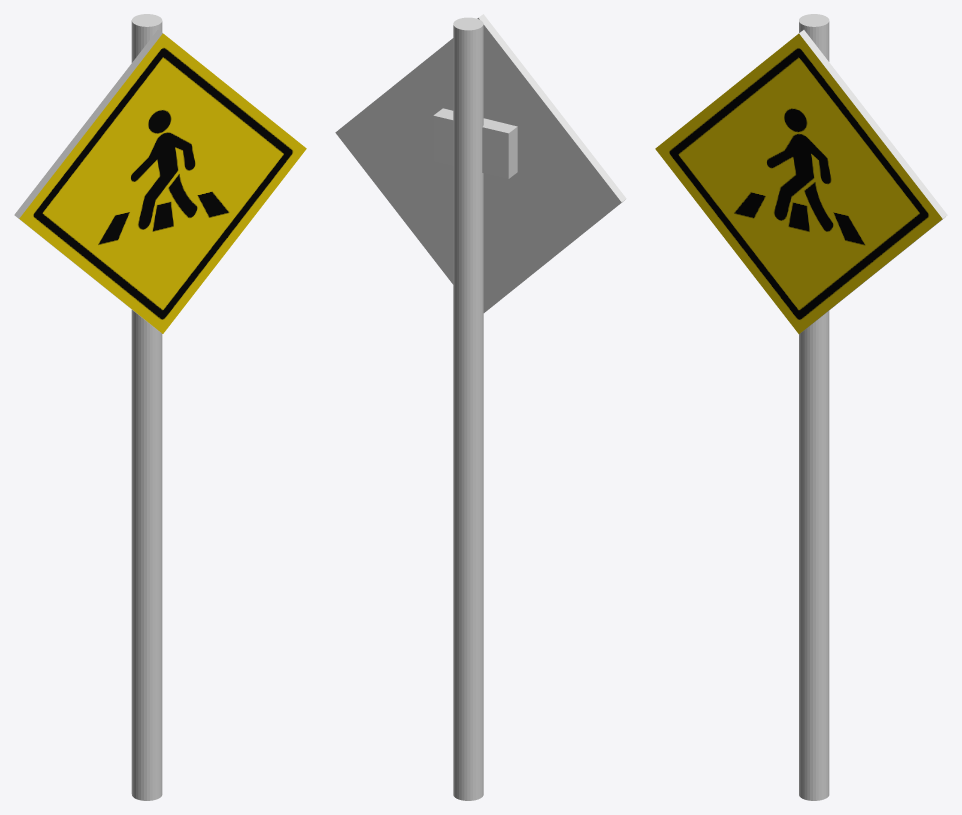
Rendered from PeringZebraCross.fbx.
3 renders of one model, left to right at view 1: azimuth 30°, elevation 25°; view 2: azimuth 150°, elevation 25°; view 3: azimuth 330°, elevation 25°, orthographic.
Parts seen in each view (by area): view 1: Cube.002, Cylinder.002; view 2: Cube.002, Cylinder.002, Cube.001; view 3: Cube.002, Cylinder.002.
Part boxes in pixels (x1,y1,x2,y2): Cube.002: [14, 30, 306, 333]; Cylinder.002: [131, 14, 162, 800]; Cube.002: [335, 14, 626, 312]; Cylinder.002: [453, 17, 483, 800]; Cube.001: [433, 108, 517, 178]; Cube.002: [655, 30, 947, 333]; Cylinder.002: [799, 14, 829, 800].
Size of the model in its own units: 283 by 727 by 39.46.
Materials: 2 (1 with a texture image).
